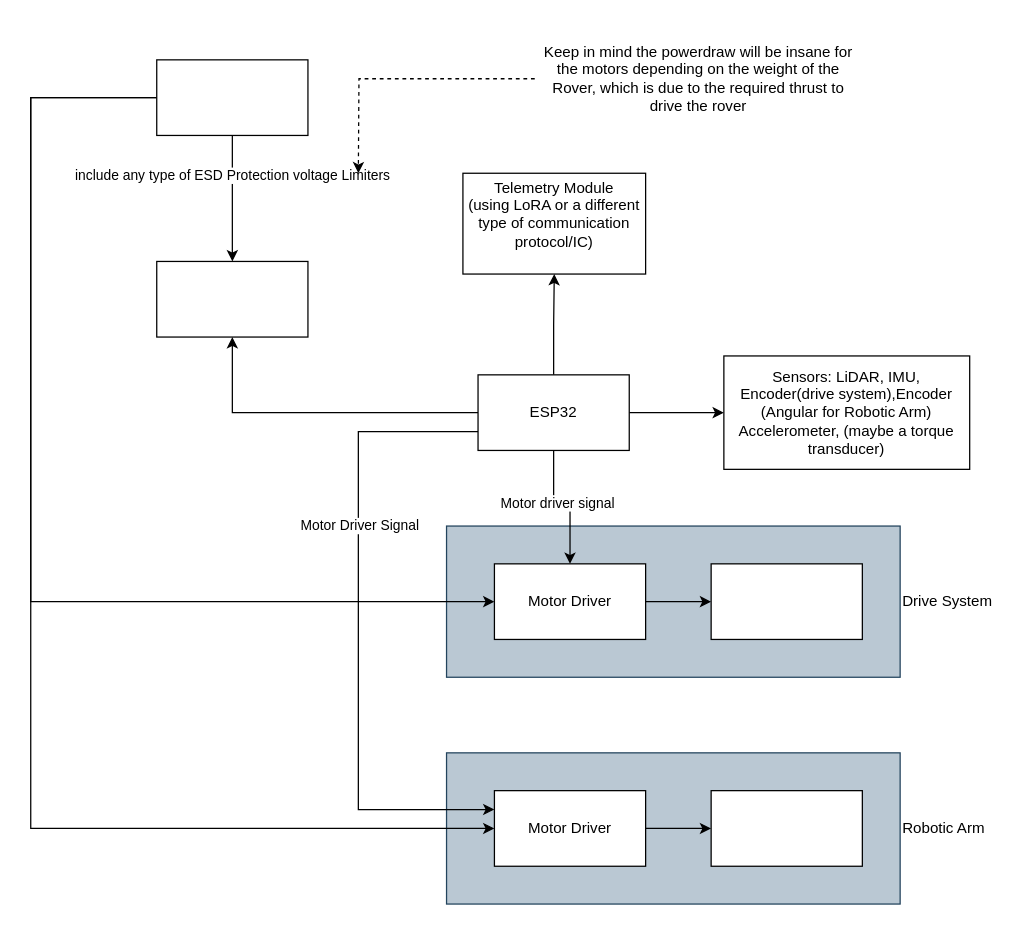
Image size: 1014x926. Some labels were removed from this diagram. Here are the shapes that lost their labels. From the top down, the centre of each, then its label:
[231,97]: Battery: TBD
[231,298]: Buck Comverter: used for the ESP32, and the sensors
[786,601]: 6x Motors or 4x Motors
[786,827]: 5 motors
